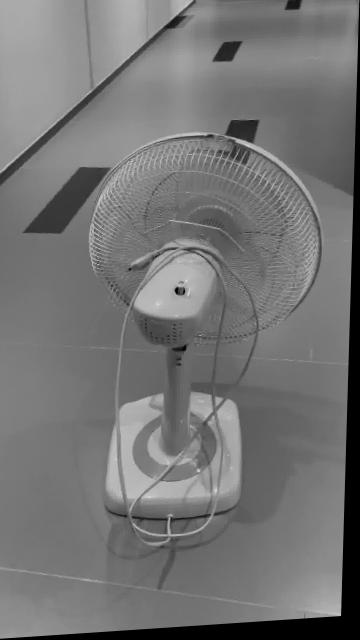Fan: (90, 135, 324, 525)
